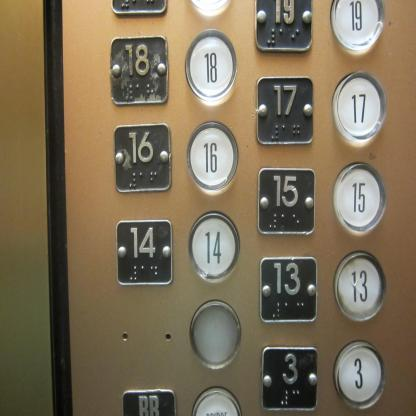13: (259, 256, 318, 324), (332, 250, 387, 322)
14: (187, 209, 241, 284), (115, 218, 174, 286)
15: (256, 166, 316, 236), (332, 160, 388, 234)
16: (112, 122, 172, 193), (185, 120, 240, 192)
17: (254, 75, 314, 146), (330, 70, 388, 141)
18: (109, 34, 169, 107), (185, 28, 238, 102)
19: (254, 0, 313, 55), (329, 0, 386, 52)
3: (259, 345, 319, 411), (332, 339, 387, 410)
empty: (188, 299, 242, 370)
